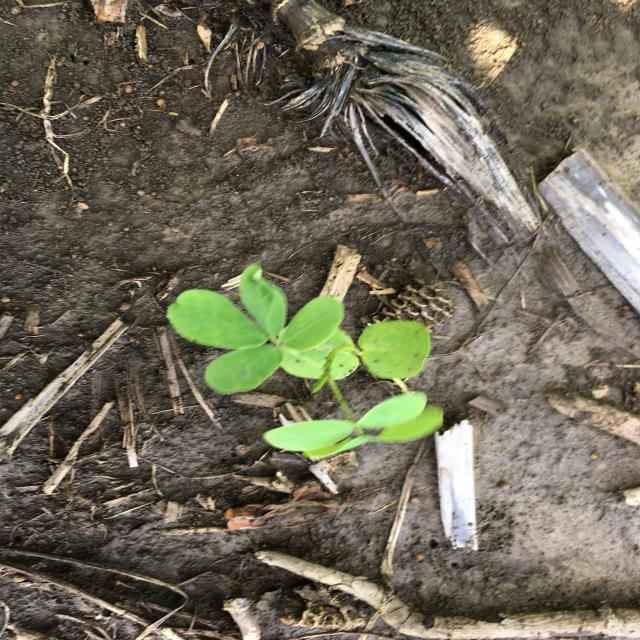Sicklepod: (162, 262, 446, 462)
